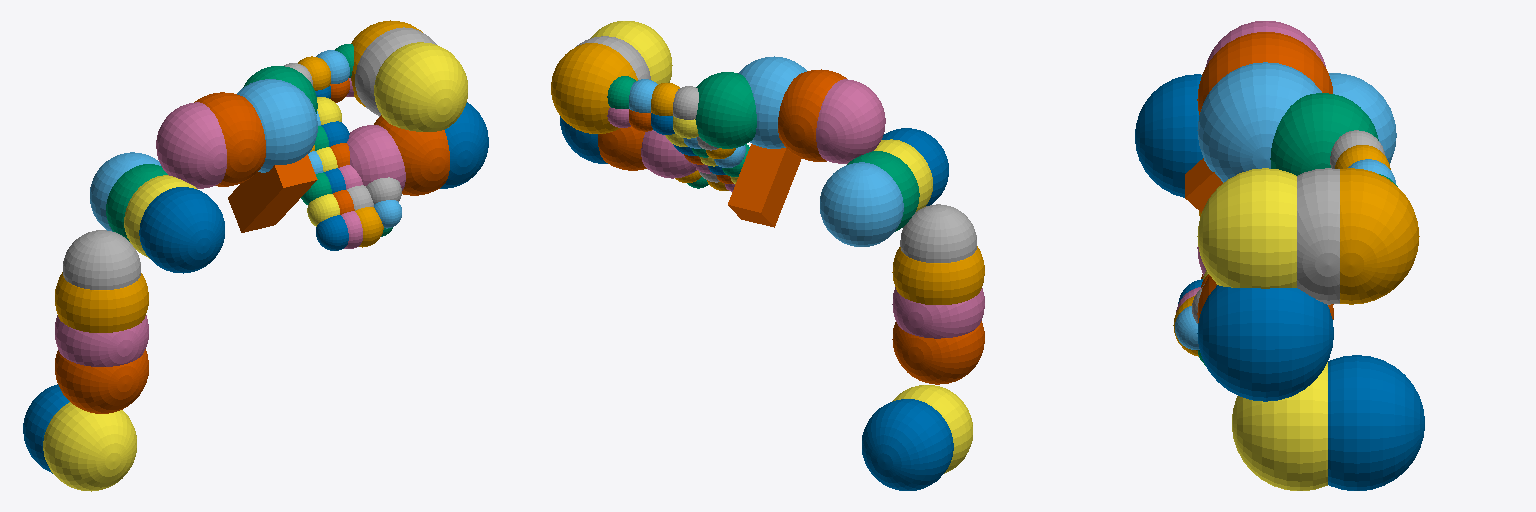
--- Facts derived from the render (not from the file) ---
3 views of the same robot in one strip: view 1: azimuth 30°, elevation 25°; view 2: azimuth 150°, elevation 25°; view 3: azimuth 270°, elevation 25° (orthographic).
Robot: panda — 76 links, 75 joints (7 revolute, 68 fixed); root link panda_link0; default pose: joints at zero except 1 at the middle of their limits (panda_joint4 = -1.57).
Visible links, largest first — view 1: panda_link6_0, panda_link2_0, panda_link4_1, panda_link4_3, panda_link5_2, panda_link3_1, panda_link2_2, link_GraspedObjectBox, panda_link3_0, panda_link4_2, panda_link2_3, panda_link6_2 (+17 smaller); view 2: panda_link2_1, panda_link3_2, panda_link5_1, panda_link4_3, panda_link5_3, link_GraspedObjectBox, panda_link3_1, panda_link2_2, panda_link3_0, panda_link4_2, panda_link5_2, panda_link2_3 (+13 smaller); view 3: panda_link6_1, panda_link2_1, panda_link6_0, panda_link5_1, panda_link5_2, panda_link2_0, panda_link4_1, panda_link5_0, panda_link5_3, panda_link4_2, panda_link3_2, link_GraspedObjectBox (+4 smaller).
Boxes of the visible links, left/top/right/bottom form: panda_link6_0: left=374, top=42, right=467, bottom=131; panda_link2_0: left=43, top=402, right=136, bottom=491; panda_link4_1: left=139, top=187, right=224, bottom=273; panda_link4_3: left=156, top=102, right=226, bottom=188; panda_link5_2: left=237, top=79, right=317, bottom=172; panda_link3_1: left=55, top=272, right=148, bottom=332; panda_link2_2: left=55, top=349, right=148, bottom=413; link_GraspedObjectBox: left=228, top=154, right=317, bottom=232; panda_link3_0: left=63, top=230, right=140, bottom=289; panda_link4_2: left=194, top=92, right=265, bottom=186; panda_link2_3: left=55, top=315, right=148, bottom=366; panda_link6_2: left=374, top=115, right=449, bottom=195; panda_link2_1: left=862, top=399, right=953, bottom=490; panda_link3_2: left=820, top=162, right=903, bottom=246; panda_link5_1: left=551, top=43, right=637, bottom=133; panda_link4_3: left=816, top=79, right=885, bottom=163; panda_link5_3: left=695, top=72, right=756, bottom=148; link_GraspedObjectBox: left=728, top=144, right=801, bottom=227; panda_link3_1: left=892, top=246, right=984, bottom=304; panda_link2_2: left=892, top=321, right=984, bottom=384; panda_link3_0: left=900, top=204, right=976, bottom=262; panda_link4_2: left=778, top=69, right=846, bottom=161; panda_link5_2: left=738, top=56, right=806, bottom=148; panda_link2_3: left=892, top=287, right=984, bottom=338; panda_link6_1: left=1197, top=285, right=1333, bottom=401; panda_link2_1: left=1328, top=355, right=1424, bottom=490; panda_link6_0: left=1197, top=168, right=1296, bottom=288; panda_link5_1: left=1340, top=168, right=1419, bottom=304; panda_link5_2: left=1197, top=62, right=1321, bottom=182; panda_link2_0: left=1232, top=362, right=1327, bottom=490; panda_link4_1: left=1135, top=74, right=1202, bottom=197; panda_link5_0: left=1297, top=168, right=1339, bottom=304; panda_link5_3: left=1270, top=93, right=1378, bottom=175; panda_link4_2: left=1197, top=32, right=1332, bottom=114; panda_link3_2: left=1329, top=73, right=1396, bottom=163; link_GraspedObjectBox: left=1185, top=158, right=1222, bottom=212.
Bounding box of the posed robot: 0.6165 × 0.255 × 0.5185 m (x, y, z).
Meshes: 9 distinct files referenced, 0 mesh visuals loaded (none loaded); not drawn: 9 (reference not matched to a file when rendering).

robot.urdf — panda:
<?xml version="1.0" ?>
<robot name="panda" version="1.0">
   <link name="panda_link0">
      <inertial>
         <origin xyz="0.0 0.0 0.0" rpy="0.0 0.0 0.0"/>
         <mass value="2.8142028896"/>
         <inertia ixx="0.0129886979" ixy="0.0" ixz="0.0" iyy="0.0165355284" iyz="0.0" izz="0.0203311636"/>
      </inertial>
      <visual>
         <geometry>
            <mesh filename="package://franka_description/meshes/visual/link0.dae"/>
         </geometry>
      </visual>
      <collision>
         <geometry>
            <mesh filename="package://franka_description/meshes/collision/link0.stl"/>
         </geometry>
      </collision>
   </link>
   <link name="panda_link1">
      <inertial>
         <origin xyz="0.0 0.0 0.0" rpy="0.0 0.0 0.0"/>
         <mass value="2.3599995791"/>
         <inertia ixx="0.0186863903" ixy="0.0" ixz="0.0" iyy="0.0143789874" iyz="0.0" izz="0.00906812"/>
      </inertial>
      <visual>
         <geometry>
            <mesh filename="package://franka_description/meshes/visual/link1.dae"/>
         </geometry>
      </visual>
      <collision>
         <geometry>
            <mesh filename="package://franka_description/meshes/collision/link1.stl"/>
         </geometry>
      </collision>
   </link>
   <joint name="panda_joint1" type="revolute">
      <origin xyz="0.0 0.0 0.333" rpy="0.0 0.0 0.0"/>
      <axis xyz="0.0 0.0 1.0"/>
      <parent link="panda_link0"/>
      <child link="panda_link1"/>
      <limit effort="87.0" lower="-2.8973" upper="2.8973" velocity="2.175"/>
      <safety_controller k_velocity="40.0" k_position="100.0" soft_lower_limit="-2.8973" soft_upper_limit="2.8973"/>
   </joint>
   <link name="panda_link2">
      <inertial>
         <origin xyz="0.0 0.0 0.0" rpy="0.0 0.0 0.0"/>
         <mass value="2.379518833"/>
         <inertia ixx="0.0190388734" ixy="0.0" ixz="0.0" iyy="0.0091429124" iyz="0.0" izz="0.014697537"/>
      </inertial>
      <visual>
         <geometry>
            <mesh filename="package://franka_description/meshes/visual/link2.dae"/>
         </geometry>
      </visual>
      <collision>
         <geometry>
            <mesh filename="package://franka_description/meshes/collision/link2.stl"/>
         </geometry>
      </collision>
   </link>
   <joint name="panda_joint2" type="revolute">
      <origin xyz="0.0 0.0 0.0" rpy="-1.57079632679 0.0 0.0"/>
      <axis xyz="0.0 0.0 1.0"/>
      <parent link="panda_link1"/>
      <child link="panda_link2"/>
      <limit effort="87.0" lower="-1.7628" upper="1.7628" velocity="2.175"/>
      <safety_controller k_velocity="40.0" k_position="100.0" soft_lower_limit="-1.7628" soft_upper_limit="1.7628"/>
   </joint>
   <link name="panda_link3">
      <inertial>
         <origin xyz="0.0 0.0 0.0" rpy="0.0 0.0 0.0"/>
         <mass value="2.6498823337"/>
         <inertia ixx="0.0129300178" ixy="0.0" ixz="0.0" iyy="0.0150242121" iyz="0.0" izz="0.0142734598"/>
      </inertial>
      <visual>
         <geometry>
            <mesh filename="package://franka_description/meshes/visual/link3.dae"/>
         </geometry>
      </visual>
      <collision>
         <geometry>
            <mesh filename="package://franka_description/meshes/collision/link3.stl"/>
         </geometry>
      </collision>
   </link>
   <joint name="panda_joint3" type="revolute">
      <origin xyz="0.0 -0.316 0.0" rpy="1.57079632679 0.0 0.0"/>
      <axis xyz="0.0 0.0 1.0"/>
      <parent link="panda_link2"/>
      <child link="panda_link3"/>
      <limit effort="87.0" lower="-2.8973" upper="2.8973" velocity="2.175"/>
      <safety_controller k_velocity="40.0" k_position="100.0" soft_lower_limit="-2.8973" soft_upper_limit="2.8973"/>
   </joint>
   <link name="panda_link4">
      <inertial>
         <origin xyz="0.0 0.0 0.0" rpy="0.0 0.0 0.0"/>
         <mass value="2.6948018744"/>
         <inertia ixx="0.0133874611" ixy="0.0" ixz="0.0" iyy="0.014514325" iyz="0.0" izz="0.0155175551"/>
      </inertial>
      <visual>
         <geometry>
            <mesh filename="package://franka_description/meshes/visual/link4.dae"/>
         </geometry>
      </visual>
      <collision>
         <geometry>
            <mesh filename="package://franka_description/meshes/collision/link4.stl"/>
         </geometry>
      </collision>
   </link>
   <joint name="panda_joint4" type="revolute">
      <origin xyz="0.0825 0.0 0.0" rpy="1.57079632679 0.0 0.0"/>
      <axis xyz="0.0 0.0 1.0"/>
      <parent link="panda_link3"/>
      <child link="panda_link4"/>
      <limit effort="87.0" lower="-3.0718" upper="-0.0698" velocity="2.175"/>
      <safety_controller k_velocity="40.0" k_position="100.0" soft_lower_limit="-3.0718" soft_upper_limit="-0.0698"/>
   </joint>
   <link name="panda_link5">
      <inertial>
         <origin xyz="0.0 0.0 0.0" rpy="0.0 0.0 0.0"/>
         <mass value="2.9812816864"/>
         <inertia ixx="0.0325565705" ixy="0.0" ixz="0.0" iyy="0.0270660472" iyz="0.0" izz="0.0115023375"/>
      </inertial>
      <visual>
         <geometry>
            <mesh filename="package://franka_description/meshes/visual/link5.dae"/>
         </geometry>
      </visual>
      <collision>
         <geometry>
            <mesh filename="package://franka_description/meshes/collision/link5.stl"/>
         </geometry>
      </collision>
   </link>
   <joint name="panda_joint5" type="revolute">
      <origin xyz="-0.0825 0.384 0.0" rpy="-1.57079632679 0.0 0.0"/>
      <axis xyz="0.0 0.0 1.0"/>
      <parent link="panda_link4"/>
      <child link="panda_link5"/>
      <limit effort="12.0" lower="-2.8973" upper="2.8973" velocity="2.61"/>
      <safety_controller k_velocity="40.0" k_position="100.0" soft_lower_limit="-2.8973" soft_upper_limit="2.8973"/>
   </joint>
   <link name="panda_link6">
      <inertial>
         <origin xyz="0.0 0.0 0.0" rpy="0.0 0.0 0.0"/>
         <mass value="1.1285806309"/>
         <inertia ixx="0.0026052565" ixy="0.0" ixz="0.0" iyy="0.0039897229" iyz="0.0" izz="0.0047048591"/>
      </inertial>
      <visual>
         <geometry>
            <mesh filename="package://franka_description/meshes/visual/link6.dae"/>
         </geometry>
      </visual>
      <collision>
         <geometry>
            <mesh filename="package://franka_description/meshes/collision/link6.stl"/>
         </geometry>
      </collision>
   </link>
   <joint name="panda_joint6" type="revolute">
      <origin xyz="0.0 0.0 0.0" rpy="1.57079632679 0.0 0.0"/>
      <axis xyz="0.0 0.0 1.0"/>
      <parent link="panda_link5"/>
      <child link="panda_link6"/>
      <limit effort="12.0" lower="-0.0175" upper="3.7525" velocity="2.61"/>
      <safety_controller k_velocity="40.0" k_position="100.0" soft_lower_limit="-0.0175" soft_upper_limit="3.7525"/>
   </joint>
   <link name="panda_link7">
      <inertial>
         <origin xyz="0.0 0.0 0.0" rpy="0.0 0.0 0.0"/>
         <mass value="0.4052912465"/>
         <inertia ixx="0.0006316592" ixy="0.0" ixz="0.0" iyy="0.0006319639" iyz="0.0" izz="0.0010607721"/>
      </inertial>
      <visual>
         <geometry>
            <mesh filename="package://franka_description/meshes/visual/link7.dae"/>
         </geometry>
      </visual>
      <collision>
         <geometry>
            <mesh filename="package://franka_description/meshes/collision/link7.stl"/>
         </geometry>
      </collision>
   </link>
   <joint name="panda_joint7" type="revolute">
      <origin xyz="0.088 0.0 0.0" rpy="1.57079632679 0.0 0.0"/>
      <axis xyz="0.0 0.0 1.0"/>
      <parent link="panda_link6"/>
      <child link="panda_link7"/>
      <limit effort="12.0" lower="-2.8973" upper="2.8973" velocity="2.61"/>
      <safety_controller k_velocity="40.0" k_position="100.0" soft_lower_limit="-2.8973" soft_upper_limit="2.8973"/>
   </joint>
   <link name="panda_link8"/>
   <joint name="panda_joint8" type="fixed">
      <origin xyz="0.0 0.0 0.107" rpy="0.0 0.0 0.0"/>
      <axis xyz="0.0 0.0 0.0"/>
      <parent link="panda_link7"/>
      <child link="panda_link8"/>
   </joint>
   <joint name="panda_hand_joint" type="fixed">
      <origin xyz="0.0 0.0 0.0" rpy="0.0 0.0 -0.785398163397"/>
      <parent link="panda_link8"/>
      <child link="panda_hand"/>
   </joint>
   <link name="panda_hand">
      <inertial>
         <origin xyz="0.0 0.0 0.0" rpy="0.0 0.0 0.0"/>
         <mass value="0.5583304799"/>
         <inertia ixx="0.0023394448" ixy="0.0" ixz="0.0" iyy="0.0005782786" iyz="0.0" izz="0.0021310296"/>
      </inertial>
      <visual>
         <geometry>
            <mesh filename="package://franka_description/meshes/visual/hand.dae"/>
         </geometry>
      </visual>
      <collision>
         <geometry>
            <mesh filename="package://franka_description/meshes/collision/hand.stl"/>
         </geometry>
      </collision>
   </link>
   <joint name="ee_fixed_joint" type="fixed">
      <origin xyz="0.0 0.0 0.1" rpy="0.0 0.0 -1.57"/>
      <parent link="panda_hand"/>
      <child link="ee_link"/>
   </joint>
   <link name="ee_link">
      <collision>
         <origin xyz="0.0 0.0 0.0" rpy="0.0 0.0 0.0"/>
         <geometry>
            <box size="0.01 0.01 0.01"/>
         </geometry>
      </collision>
   </link>
   <joint name="joint_panda_link2_sphere_0" type="fixed">
      <origin xyz="0.0 0.0 0.03" rpy="0.0 0.0 0.0"/>
      <parent link="panda_link2"/>
      <child link="panda_link2_0"/>
   </joint>
   <link name="panda_link2_0">
      <origin xyz="0.0 0.0 0.0" rpy="0.0 0.0 0.0"/>
      <visual>
         <geometry>
            <sphere radius="0.06"/>
         </geometry>
      </visual>
   </link>
   <joint name="joint_panda_link2_sphere_1" type="fixed">
      <origin xyz="0.0 0.0 0.08" rpy="0.0 0.0 0.0"/>
      <parent link="panda_link2"/>
      <child link="panda_link2_1"/>
   </joint>
   <link name="panda_link2_1">
      <origin xyz="0.0 0.0 0.0" rpy="0.0 0.0 0.0"/>
      <visual>
         <geometry>
            <sphere radius="0.06"/>
         </geometry>
      </visual>
   </link>
   <joint name="joint_panda_link2_sphere_2" type="fixed">
      <origin xyz="0.0 -0.12 0.0" rpy="0.0 0.0 0.0"/>
      <parent link="panda_link2"/>
      <child link="panda_link2_2"/>
   </joint>
   <link name="panda_link2_2">
      <origin xyz="0.0 0.0 0.0" rpy="0.0 0.0 0.0"/>
      <visual>
         <geometry>
            <sphere radius="0.06"/>
         </geometry>
      </visual>
   </link>
   <joint name="joint_panda_link2_sphere_3" type="fixed">
      <origin xyz="0.0 -0.17 0.0" rpy="0.0 0.0 0.0"/>
      <parent link="panda_link2"/>
      <child link="panda_link2_3"/>
   </joint>
   <link name="panda_link2_3">
      <origin xyz="0.0 0.0 0.0" rpy="0.0 0.0 0.0"/>
      <visual>
         <geometry>
            <sphere radius="0.06"/>
         </geometry>
      </visual>
   </link>
   <joint name="joint_panda_link3_sphere_0" type="fixed">
      <origin xyz="0.0 0.0 -0.06" rpy="0.0 0.0 0.0"/>
      <parent link="panda_link3"/>
      <child link="panda_link3_0"/>
   </joint>
   <link name="panda_link3_0">
      <origin xyz="0.0 0.0 0.0" rpy="0.0 0.0 0.0"/>
      <visual>
         <geometry>
            <sphere radius="0.05"/>
         </geometry>
      </visual>
   </link>
   <joint name="joint_panda_link3_sphere_1" type="fixed">
      <origin xyz="0.0 0.0 -0.1" rpy="0.0 0.0 0.0"/>
      <parent link="panda_link3"/>
      <child link="panda_link3_1"/>
   </joint>
   <link name="panda_link3_1">
      <origin xyz="0.0 0.0 0.0" rpy="0.0 0.0 0.0"/>
      <visual>
         <geometry>
            <sphere radius="0.06"/>
         </geometry>
      </visual>
   </link>
   <joint name="joint_panda_link3_sphere_2" type="fixed">
      <origin xyz="0.08 0.06 0.0" rpy="0.0 0.0 0.0"/>
      <parent link="panda_link3"/>
      <child link="panda_link3_2"/>
   </joint>
   <link name="panda_link3_2">
      <origin xyz="0.0 0.0 0.0" rpy="0.0 0.0 0.0"/>
      <visual>
         <geometry>
            <sphere radius="0.055"/>
         </geometry>
      </visual>
   </link>
   <joint name="joint_panda_link3_sphere_3" type="fixed">
      <origin xyz="0.08 0.02 0.0" rpy="0.0 0.0 0.0"/>
      <parent link="panda_link3"/>
      <child link="panda_link3_3"/>
   </joint>
   <link name="panda_link3_3">
      <origin xyz="0.0 0.0 0.0" rpy="0.0 0.0 0.0"/>
      <visual>
         <geometry>
            <sphere radius="0.055"/>
         </geometry>
      </visual>
   </link>
   <joint name="joint_panda_link4_sphere_0" type="fixed">
      <origin xyz="0.0 0.0 0.02" rpy="0.0 0.0 0.0"/>
      <parent link="panda_link4"/>
      <child link="panda_link4_0"/>
   </joint>
   <link name="panda_link4_0">
      <origin xyz="0.0 0.0 0.0" rpy="0.0 0.0 0.0"/>
      <visual>
         <geometry>
            <sphere radius="0.055"/>
         </geometry>
      </visual>
   </link>
   <joint name="joint_panda_link4_sphere_1" type="fixed">
      <origin xyz="0.0 0.0 0.06" rpy="0.0 0.0 0.0"/>
      <parent link="panda_link4"/>
      <child link="panda_link4_1"/>
   </joint>
   <link name="panda_link4_1">
      <origin xyz="0.0 0.0 0.0" rpy="0.0 0.0 0.0"/>
      <visual>
         <geometry>
            <sphere radius="0.055"/>
         </geometry>
      </visual>
   </link>
   <joint name="joint_panda_link4_sphere_2" type="fixed">
      <origin xyz="-0.08 0.095 0.0" rpy="0.0 0.0 0.0"/>
      <parent link="panda_link4"/>
      <child link="panda_link4_2"/>
   </joint>
   <link name="panda_link4_2">
      <origin xyz="0.0 0.0 0.0" rpy="0.0 0.0 0.0"/>
      <visual>
         <geometry>
            <sphere radius="0.06"/>
         </geometry>
      </visual>
   </link>
   <joint name="joint_panda_link4_sphere_3" type="fixed">
      <origin xyz="-0.08 0.06 0.0" rpy="0.0 0.0 0.0"/>
      <parent link="panda_link4"/>
      <child link="panda_link4_3"/>
   </joint>
   <link name="panda_link4_3">
      <origin xyz="0.0 0.0 0.0" rpy="0.0 0.0 0.0"/>
      <visual>
         <geometry>
            <sphere radius="0.055"/>
         </geometry>
      </visual>
   </link>
   <joint name="joint_panda_link5_sphere_0" type="fixed">
      <origin xyz="0.0 0.055 0.0" rpy="0.0 0.0 0.0"/>
      <parent link="panda_link5"/>
      <child link="panda_link5_0"/>
   </joint>
   <link name="panda_link5_0">
      <origin xyz="0.0 0.0 0.0" rpy="0.0 0.0 0.0"/>
      <visual>
         <geometry>
            <sphere radius="0.06"/>
         </geometry>
      </visual>
   </link>
   <joint name="joint_panda_link5_sphere_1" type="fixed">
      <origin xyz="0.0 0.075 0.0" rpy="0.0 0.0 0.0"/>
      <parent link="panda_link5"/>
      <child link="panda_link5_1"/>
   </joint>
   <link name="panda_link5_1">
      <origin xyz="0.0 0.0 0.0" rpy="0.0 0.0 0.0"/>
      <visual>
         <geometry>
            <sphere radius="0.06"/>
         </geometry>
      </visual>
   </link>
   <joint name="joint_panda_link5_sphere_2" type="fixed">
      <origin xyz="0.0 0.0 -0.22" rpy="0.0 0.0 0.0"/>
      <parent link="panda_link5"/>
      <child link="panda_link5_2"/>
   </joint>
   <link name="panda_link5_2">
      <origin xyz="0.0 0.0 0.0" rpy="0.0 0.0 0.0"/>
      <visual>
         <geometry>
            <sphere radius="0.06"/>
         </geometry>
      </visual>
   </link>
   <joint name="joint_panda_link5_sphere_3" type="fixed">
      <origin xyz="0.0 0.05 -0.18" rpy="0.0 0.0 0.0"/>
      <parent link="panda_link5"/>
      <child link="panda_link5_3"/>
   </joint>
   <link name="panda_link5_3">
      <origin xyz="0.0 0.0 0.0" rpy="0.0 0.0 0.0"/>
      <visual>
         <geometry>
            <sphere radius="0.05"/>
         </geometry>
      </visual>
   </link>
   <joint name="joint_panda_link5_sphere_4" type="fixed">
      <origin xyz="0.01 0.08 -0.14" rpy="0.0 0.0 0.0"/>
      <parent link="panda_link5"/>
      <child link="panda_link5_4"/>
   </joint>
   <link name="panda_link5_4">
      <origin xyz="0.0 0.0 0.0" rpy="0.0 0.0 0.0"/>
      <visual>
         <geometry>
            <sphere radius="0.025"/>
         </geometry>
      </visual>
   </link>
   <joint name="joint_panda_link5_sphere_5" type="fixed">
      <origin xyz="0.01 0.085 -0.11" rpy="0.0 0.0 0.0"/>
      <parent link="panda_link5"/>
      <child link="panda_link5_5"/>
   </joint>
   <link name="panda_link5_5">
      <origin xyz="0.0 0.0 0.0" rpy="0.0 0.0 0.0"/>
      <visual>
         <geometry>
            <sphere radius="0.025"/>
         </geometry>
      </visual>
   </link>
   <joint name="joint_panda_link5_sphere_6" type="fixed">
      <origin xyz="0.01 0.09 -0.08" rpy="0.0 0.0 0.0"/>
      <parent link="panda_link5"/>
      <child link="panda_link5_6"/>
   </joint>
   <link name="panda_link5_6">
      <origin xyz="0.0 0.0 0.0" rpy="0.0 0.0 0.0"/>
      <visual>
         <geometry>
            <sphere radius="0.025"/>
         </geometry>
      </visual>
   </link>
   <joint name="joint_panda_link5_sphere_7" type="fixed">
      <origin xyz="0.01 0.095 -0.05" rpy="0.0 0.0 0.0"/>
      <parent link="panda_link5"/>
      <child link="panda_link5_7"/>
   </joint>
   <link name="panda_link5_7">
      <origin xyz="0.0 0.0 0.0" rpy="0.0 0.0 0.0"/>
      <visual>
         <geometry>
            <sphere radius="0.025"/>
         </geometry>
      </visual>
   </link>
   <joint name="joint_panda_link5_sphere_8" type="fixed">
      <origin xyz="-0.01 0.08 -0.14" rpy="0.0 0.0 0.0"/>
      <parent link="panda_link5"/>
      <child link="panda_link5_8"/>
   </joint>
   <link name="panda_link5_8">
      <origin xyz="0.0 0.0 0.0" rpy="0.0 0.0 0.0"/>
      <visual>
         <geometry>
            <sphere radius="0.025"/>
         </geometry>
      </visual>
   </link>
   <joint name="joint_panda_link5_sphere_9" type="fixed">
      <origin xyz="-0.01 0.085 -0.11" rpy="0.0 0.0 0.0"/>
      <parent link="panda_link5"/>
      <child link="panda_link5_9"/>
   </joint>
   <link name="panda_link5_9">
      <origin xyz="0.0 0.0 0.0" rpy="0.0 0.0 0.0"/>
      <visual>
         <geometry>
            <sphere radius="0.025"/>
         </geometry>
      </visual>
   </link>
   <joint name="joint_panda_link5_sphere_10" type="fixed">
      <origin xyz="-0.01 0.09 -0.08" rpy="0.0 0.0 0.0"/>
      <parent link="panda_link5"/>
      <child link="panda_link5_10"/>
   </joint>
   <link name="panda_link5_10">
      <origin xyz="0.0 0.0 0.0" rpy="0.0 0.0 0.0"/>
      <visual>
         <geometry>
            <sphere radius="0.025"/>
         </geometry>
      </visual>
   </link>
   <joint name="joint_panda_link5_sphere_11" type="fixed">
      <origin xyz="-0.01 0.095 -0.05" rpy="0.0 0.0 0.0"/>
      <parent link="panda_link5"/>
      <child link="panda_link5_11"/>
   </joint>
   <link name="panda_link5_11">
      <origin xyz="0.0 0.0 0.0" rpy="0.0 0.0 0.0"/>
      <visual>
         <geometry>
            <sphere radius="0.025"/>
         </geometry>
      </visual>
   </link>
   <joint name="joint_panda_link6_sphere_0" type="fixed">
      <origin xyz="0.0 0.0 0.0" rpy="0.0 0.0 0.0"/>
      <parent link="panda_link6"/>
      <child link="panda_link6_0"/>
   </joint>
   <link name="panda_link6_0">
      <origin xyz="0.0 0.0 0.0" rpy="0.0 0.0 0.0"/>
      <visual>
         <geometry>
            <sphere radius="0.06"/>
         </geometry>
      </visual>
   </link>
   <joint name="joint_panda_link6_sphere_1" type="fixed">
      <origin xyz="0.08 0.03 0.0" rpy="0.0 0.0 0.0"/>
      <parent link="panda_link6"/>
      <child link="panda_link6_1"/>
   </joint>
   <link name="panda_link6_1">
      <origin xyz="0.0 0.0 0.0" rpy="0.0 0.0 0.0"/>
      <visual>
         <geometry>
            <sphere radius="0.06"/>
         </geometry>
      </visual>
   </link>
   <joint name="joint_panda_link6_sphere_2" type="fixed">
      <origin xyz="0.08 -0.01 0.0" rpy="0.0 0.0 0.0"/>
      <parent link="panda_link6"/>
      <child link="panda_link6_2"/>
   </joint>
   <link name="panda_link6_2">
      <origin xyz="0.0 0.0 0.0" rpy="0.0 0.0 0.0"/>
      <visual>
         <geometry>
            <sphere radius="0.06"/>
         </geometry>
      </visual>
   </link>
   <joint name="joint_panda_link7_sphere_0" type="fixed">
      <origin xyz="0.0 0.0 0.07" rpy="0.0 0.0 0.0"/>
      <parent link="panda_link7"/>
      <child link="panda_link7_0"/>
   </joint>
   <link name="panda_link7_0">
      <origin xyz="0.0 0.0 0.0" rpy="0.0 0.0 0.0"/>
      <visual>
         <geometry>
            <sphere radius="0.05"/>
         </geometry>
      </visual>
   </link>
   <joint name="joint_panda_link7_sphere_1" type="fixed">
      <origin xyz="0.02 0.04 0.08" rpy="0.0 0.0 0.0"/>
      <parent link="panda_link7"/>
      <child link="panda_link7_1"/>
   </joint>
   <link name="panda_link7_1">
      <origin xyz="0.0 0.0 0.0" rpy="0.0 0.0 0.0"/>
      <visual>
         <geometry>
            <sphere radius="0.025"/>
         </geometry>
      </visual>
   </link>
   <joint name="joint_panda_link7_sphere_2" type="fixed">
      <origin xyz="0.04 0.02 0.08" rpy="0.0 0.0 0.0"/>
      <parent link="panda_link7"/>
      <child link="panda_link7_2"/>
   </joint>
   <link name="panda_link7_2">
      <origin xyz="0.0 0.0 0.0" rpy="0.0 0.0 0.0"/>
      <visual>
         <geometry>
            <sphere radius="0.025"/>
         </geometry>
      </visual>
   </link>
   <joint name="joint_panda_link7_sphere_3" type="fixed">
      <origin xyz="0.04 0.06 0.085" rpy="0.0 0.0 0.0"/>
      <parent link="panda_link7"/>
      <child link="panda_link7_3"/>
   </joint>
   <link name="panda_link7_3">
      <origin xyz="0.0 0.0 0.0" rpy="0.0 0.0 0.0"/>
      <visual>
         <geometry>
            <sphere radius="0.02"/>
         </geometry>
      </visual>
   </link>
   <joint name="joint_panda_link7_sphere_4" type="fixed">
      <origin xyz="0.06 0.04 0.085" rpy="0.0 0.0 0.0"/>
      <parent link="panda_link7"/>
      <child link="panda_link7_4"/>
   </joint>
   <link name="panda_link7_4">
      <origin xyz="0.0 0.0 0.0" rpy="0.0 0.0 0.0"/>
      <visual>
         <geometry>
            <sphere radius="0.02"/>
         </geometry>
      </visual>
   </link>
   <joint name="joint_panda_hand_sphere_0" type="fixed">
      <origin xyz="0.0 -0.075 0.01" rpy="0.0 0.0 0.0"/>
      <parent link="panda_hand"/>
      <child link="panda_hand_0"/>
   </joint>
   <link name="panda_hand_0">
      <origin xyz="0.0 0.0 0.0" rpy="0.0 0.0 0.0"/>
      <visual>
         <geometry>
            <sphere radius="0.028"/>
         </geometry>
      </visual>
   </link>
   <joint name="joint_panda_hand_sphere_1" type="fixed">
      <origin xyz="0.0 -0.045 0.01" rpy="0.0 0.0 0.0"/>
      <parent link="panda_hand"/>
      <child link="panda_hand_1"/>
   </joint>
   <link name="panda_hand_1">
      <origin xyz="0.0 0.0 0.0" rpy="0.0 0.0 0.0"/>
      <visual>
         <geometry>
            <sphere radius="0.028"/>
         </geometry>
      </visual>
   </link>
   <joint name="joint_panda_hand_sphere_2" type="fixed">
      <origin xyz="0.0 -0.015 0.01" rpy="0.0 0.0 0.0"/>
      <parent link="panda_hand"/>
      <child link="panda_hand_2"/>
   </joint>
   <link name="panda_hand_2">
      <origin xyz="0.0 0.0 0.0" rpy="0.0 0.0 0.0"/>
      <visual>
         <geometry>
            <sphere radius="0.028"/>
         </geometry>
      </visual>
   </link>
   <joint name="joint_panda_hand_sphere_3" type="fixed">
      <origin xyz="0.0 0.015 0.01" rpy="0.0 0.0 0.0"/>
      <parent link="panda_hand"/>
      <child link="panda_hand_3"/>
   </joint>
   <link name="panda_hand_3">
      <origin xyz="0.0 0.0 0.0" rpy="0.0 0.0 0.0"/>
      <visual>
         <geometry>
            <sphere radius="0.028"/>
         </geometry>
      </visual>
   </link>
   <joint name="joint_panda_hand_sphere_4" type="fixed">
      <origin xyz="0.0 0.045 0.01" rpy="0.0 0.0 0.0"/>
      <parent link="panda_hand"/>
      <child link="panda_hand_4"/>
   </joint>
   <link name="panda_hand_4">
      <origin xyz="0.0 0.0 0.0" rpy="0.0 0.0 0.0"/>
      <visual>
         <geometry>
            <sphere radius="0.028"/>
         </geometry>
      </visual>
   </link>
   <joint name="joint_panda_hand_sphere_5" type="fixed">
      <origin xyz="0.0 0.075 0.01" rpy="0.0 0.0 0.0"/>
      <parent link="panda_hand"/>
      <child link="panda_hand_5"/>
   </joint>
   <link name="panda_hand_5">
      <origin xyz="0.0 0.0 0.0" rpy="0.0 0.0 0.0"/>
      <visual>
         <geometry>
            <sphere radius="0.028"/>
         </geometry>
      </visual>
   </link>
   <joint name="joint_panda_hand_sphere_6" type="fixed">
      <origin xyz="0.0 -0.075 0.03" rpy="0.0 0.0 0.0"/>
      <parent link="panda_hand"/>
      <child link="panda_hand_6"/>
   </joint>
   <link name="panda_hand_6">
      <origin xyz="0.0 0.0 0.0" rpy="0.0 0.0 0.0"/>
      <visual>
         <geometry>
            <sphere radius="0.026"/>
         </geometry>
      </visual>
   </link>
   <joint name="joint_panda_hand_sphere_7" type="fixed">
      <origin xyz="0.0 -0.045 0.03" rpy="0.0 0.0 0.0"/>
      <parent link="panda_hand"/>
      <child link="panda_hand_7"/>
   </joint>
   <link name="panda_hand_7">
      <origin xyz="0.0 0.0 0.0" rpy="0.0 0.0 0.0"/>
      <visual>
         <geometry>
            <sphere radius="0.026"/>
         </geometry>
      </visual>
   </link>
   <joint name="joint_panda_hand_sphere_8" type="fixed">
      <origin xyz="0.0 -0.015 0.03" rpy="0.0 0.0 0.0"/>
      <parent link="panda_hand"/>
      <child link="panda_hand_8"/>
   </joint>
   <link name="panda_hand_8">
      <origin xyz="0.0 0.0 0.0" rpy="0.0 0.0 0.0"/>
      <visual>
         <geometry>
            <sphere radius="0.026"/>
         </geometry>
      </visual>
   </link>
   <joint name="joint_panda_hand_sphere_9" type="fixed">
      <origin xyz="0.0 0.015 0.03" rpy="0.0 0.0 0.0"/>
      <parent link="panda_hand"/>
      <child link="panda_hand_9"/>
   </joint>
   <link name="panda_hand_9">
      <origin xyz="0.0 0.0 0.0" rpy="0.0 0.0 0.0"/>
      <visual>
         <geometry>
            <sphere radius="0.026"/>
         </geometry>
      </visual>
   </link>
   <joint name="joint_panda_hand_sphere_10" type="fixed">
      <origin xyz="0.0 0.045 0.03" rpy="0.0 0.0 0.0"/>
      <parent link="panda_hand"/>
      <child link="panda_hand_10"/>
   </joint>
   <link name="panda_hand_10">
      <origin xyz="0.0 0.0 0.0" rpy="0.0 0.0 0.0"/>
      <visual>
         <geometry>
            <sphere radius="0.026"/>
         </geometry>
      </visual>
   </link>
   <joint name="joint_panda_hand_sphere_11" type="fixed">
      <origin xyz="0.0 0.075 0.03" rpy="0.0 0.0 0.0"/>
      <parent link="panda_hand"/>
      <child link="panda_hand_11"/>
   </joint>
   <link name="panda_hand_11">
      <origin xyz="0.0 0.0 0.0" rpy="0.0 0.0 0.0"/>
      <visual>
         <geometry>
            <sphere radius="0.026"/>
         </geometry>
      </visual>
   </link>
   <joint name="joint_panda_hand_sphere_12" type="fixed">
      <origin xyz="0.0 -0.075 0.05" rpy="0.0 0.0 0.0"/>
      <parent link="panda_hand"/>
      <child link="panda_hand_12"/>
   </joint>
   <link name="panda_hand_12">
      <origin xyz="0.0 0.0 0.0" rpy="0.0 0.0 0.0"/>
      <visual>
         <geometry>
            <sphere radius="0.024"/>
         </geometry>
      </visual>
   </link>
   <joint name="joint_panda_hand_sphere_13" type="fixed">
      <origin xyz="0.0 -0.045 0.05" rpy="0.0 0.0 0.0"/>
      <parent link="panda_hand"/>
      <child link="panda_hand_13"/>
   </joint>
   <link name="panda_hand_13">
      <origin xyz="0.0 0.0 0.0" rpy="0.0 0.0 0.0"/>
      <visual>
         <geometry>
            <sphere radius="0.024"/>
         </geometry>
      </visual>
   </link>
   <joint name="joint_panda_hand_sphere_14" type="fixed">
      <origin xyz="0.0 -0.015 0.05" rpy="0.0 0.0 0.0"/>
      <parent link="panda_hand"/>
      <child link="panda_hand_14"/>
   </joint>
   <link name="panda_hand_14">
      <origin xyz="0.0 0.0 0.0" rpy="0.0 0.0 0.0"/>
      <visual>
         <geometry>
            <sphere radius="0.024"/>
         </geometry>
      </visual>
   </link>
   <joint name="joint_panda_hand_sphere_15" type="fixed">
      <origin xyz="0.0 0.015 0.05" rpy="0.0 0.0 0.0"/>
      <parent link="panda_hand"/>
      <child link="panda_hand_15"/>
   </joint>
   <link name="panda_hand_15">
      <origin xyz="0.0 0.0 0.0" rpy="0.0 0.0 0.0"/>
      <visual>
         <geometry>
            <sphere radius="0.024"/>
         </geometry>
      </visual>
   </link>
   <joint name="joint_panda_hand_sphere_16" type="fixed">
      <origin xyz="0.0 0.045 0.05" rpy="0.0 0.0 0.0"/>
      <parent link="panda_hand"/>
      <child link="panda_hand_16"/>
   </joint>
   <link name="panda_hand_16">
      <origin xyz="0.0 0.0 0.0" rpy="0.0 0.0 0.0"/>
      <visual>
         <geometry>
            <sphere radius="0.024"/>
         </geometry>
      </visual>
   </link>
   <joint name="joint_panda_hand_sphere_17" type="fixed">
      <origin xyz="0.0 0.075 0.05" rpy="0.0 0.0 0.0"/>
      <parent link="panda_hand"/>
      <child link="panda_hand_17"/>
   </joint>
   <link name="panda_hand_17">
      <origin xyz="0.0 0.0 0.0" rpy="0.0 0.0 0.0"/>
      <visual>
         <geometry>
            <sphere radius="0.024"/>
         </geometry>
      </visual>
   </link>
   <joint name="joint_fixed_GraspedObjectBox" type="fixed">
      <origin xyz="0.0 0.0 0.11" rpy="3.1415927 -1.5707964 0.0"/>
      <parent link="panda_hand"/>
      <child link="link_GraspedObjectBox"/>
   </joint>
   <link name="link_GraspedObjectBox">
      <origin xyz="0.0 0.0 0.0" rpy="0.0 0.0 0.0"/>
      <visual>
         <geometry>
            <box size="0.05 0.05 0.15"/>
         </geometry>
      </visual>
      <collision>
         <geometry>
            <box size="0.05 0.05 0.15"/>
         </geometry>
      </collision>
   </link>
   <joint name="joint_fixed_GraspedObjectBox_point_0" type="fixed">
      <origin xyz="0.025 0.025 -0.075" rpy="0 0 0"/>
      <parent link="panda_hand"/>
      <child link="link_GraspedObjectBox_point_0"/>
   </joint>
   <link name="link_GraspedObjectBox_point_0">
      <origin xyz="0.0 0.0 0.0" rpy="0.0 0.0 0.0"/>
   </link>
   <joint name="joint_fixed_GraspedObjectBox_point_1" type="fixed">
      <origin xyz="0.025 -0.025 -0.075" rpy="0 0 0"/>
      <parent link="panda_hand"/>
      <child link="link_GraspedObjectBox_point_1"/>
   </joint>
   <link name="link_GraspedObjectBox_point_1">
      <origin xyz="0.0 0.0 0.0" rpy="0.0 0.0 0.0"/>
   </link>
   <joint name="joint_fixed_GraspedObjectBox_point_2" type="fixed">
      <origin xyz="-0.025 -0.025 -0.075" rpy="0 0 0"/>
      <parent link="panda_hand"/>
      <child link="link_GraspedObjectBox_point_2"/>
   </joint>
   <link name="link_GraspedObjectBox_point_2">
      <origin xyz="0.0 0.0 0.0" rpy="0.0 0.0 0.0"/>
   </link>
   <joint name="joint_fixed_GraspedObjectBox_point_3" type="fixed">
      <origin xyz="-0.025 0.025 -0.075" rpy="0 0 0"/>
      <parent link="panda_hand"/>
      <child link="link_GraspedObjectBox_point_3"/>
   </joint>
   <link name="link_GraspedObjectBox_point_3">
      <origin xyz="0.0 0.0 0.0" rpy="0.0 0.0 0.0"/>
   </link>
   <joint name="joint_fixed_GraspedObjectBox_point_4" type="fixed">
      <origin xyz="0.025 0.025 0.075" rpy="0 0 0"/>
      <parent link="panda_hand"/>
      <child link="link_GraspedObjectBox_point_4"/>
   </joint>
   <link name="link_GraspedObjectBox_point_4">
      <origin xyz="0.0 0.0 0.0" rpy="0.0 0.0 0.0"/>
   </link>
   <joint name="joint_fixed_GraspedObjectBox_point_5" type="fixed">
      <origin xyz="0.025 -0.025 0.075" rpy="0 0 0"/>
      <parent link="panda_hand"/>
      <child link="link_GraspedObjectBox_point_5"/>
   </joint>
   <link name="link_GraspedObjectBox_point_5">
      <origin xyz="0.0 0.0 0.0" rpy="0.0 0.0 0.0"/>
   </link>
   <joint name="joint_fixed_GraspedObjectBox_point_6" type="fixed">
      <origin xyz="-0.025 -0.025 0.075" rpy="0 0 0"/>
      <parent link="panda_hand"/>
      <child link="link_GraspedObjectBox_point_6"/>
   </joint>
   <link name="link_GraspedObjectBox_point_6">
      <origin xyz="0.0 0.0 0.0" rpy="0.0 0.0 0.0"/>
   </link>
   <joint name="joint_fixed_GraspedObjectBox_point_7" type="fixed">
      <origin xyz="-0.025 0.025 0.075" rpy="0 0 0"/>
      <parent link="panda_hand"/>
      <child link="link_GraspedObjectBox_point_7"/>
   </joint>
   <link name="link_GraspedObjectBox_point_7">
      <origin xyz="0.0 0.0 0.0" rpy="0.0 0.0 0.0"/>
   </link>
   <joint name="joint_fixed_GraspedObjectBox_point_8" type="fixed">
      <origin xyz="0.025 0.0 0.0" rpy="0 0 0"/>
      <parent link="panda_hand"/>
      <child link="link_GraspedObjectBox_point_8"/>
   </joint>
   <link name="link_GraspedObjectBox_point_8">
      <origin xyz="0.0 0.0 0.0" rpy="0.0 0.0 0.0"/>
   </link>
   <joint name="joint_fixed_GraspedObjectBox_point_9" type="fixed">
      <origin xyz="0.0 -0.025 0.0" rpy="0 0 0"/>
      <parent link="panda_hand"/>
      <child link="link_GraspedObjectBox_point_9"/>
   </joint>
   <link name="link_GraspedObjectBox_point_9">
      <origin xyz="0.0 0.0 0.0" rpy="0.0 0.0 0.0"/>
   </link>
   <joint name="joint_fixed_GraspedObjectBox_point_10" type="fixed">
      <origin xyz="-0.025 0.0 0.0" rpy="0 0 0"/>
      <parent link="panda_hand"/>
      <child link="link_GraspedObjectBox_point_10"/>
   </joint>
   <link name="link_GraspedObjectBox_point_10">
      <origin xyz="0.0 0.0 0.0" rpy="0.0 0.0 0.0"/>
   </link>
   <joint name="joint_fixed_GraspedObjectBox_point_11" type="fixed">
      <origin xyz="0.0 0.025 0.0" rpy="0 0 0"/>
      <parent link="panda_hand"/>
      <child link="link_GraspedObjectBox_point_11"/>
   </joint>
   <link name="link_GraspedObjectBox_point_11">
      <origin xyz="0.0 0.0 0.0" rpy="0.0 0.0 0.0"/>
   </link>
   <joint name="joint_fixed_GraspedObjectBox_point_12" type="fixed">
      <origin xyz="0.0 0.0 0.075" rpy="0 0 0"/>
      <parent link="panda_hand"/>
      <child link="link_GraspedObjectBox_point_12"/>
   </joint>
   <link name="link_GraspedObjectBox_point_12">
      <origin xyz="0.0 0.0 0.0" rpy="0.0 0.0 0.0"/>
   </link>
   <joint name="joint_fixed_GraspedObjectBox_point_13" type="fixed">
      <origin xyz="0.0 0.0 -0.075" rpy="0 0 0"/>
      <parent link="panda_hand"/>
      <child link="link_GraspedObjectBox_point_13"/>
   </joint>
   <link name="link_GraspedObjectBox_point_13">
      <origin xyz="0.0 0.0 0.0" rpy="0.0 0.0 0.0"/>
   </link>
</robot>
